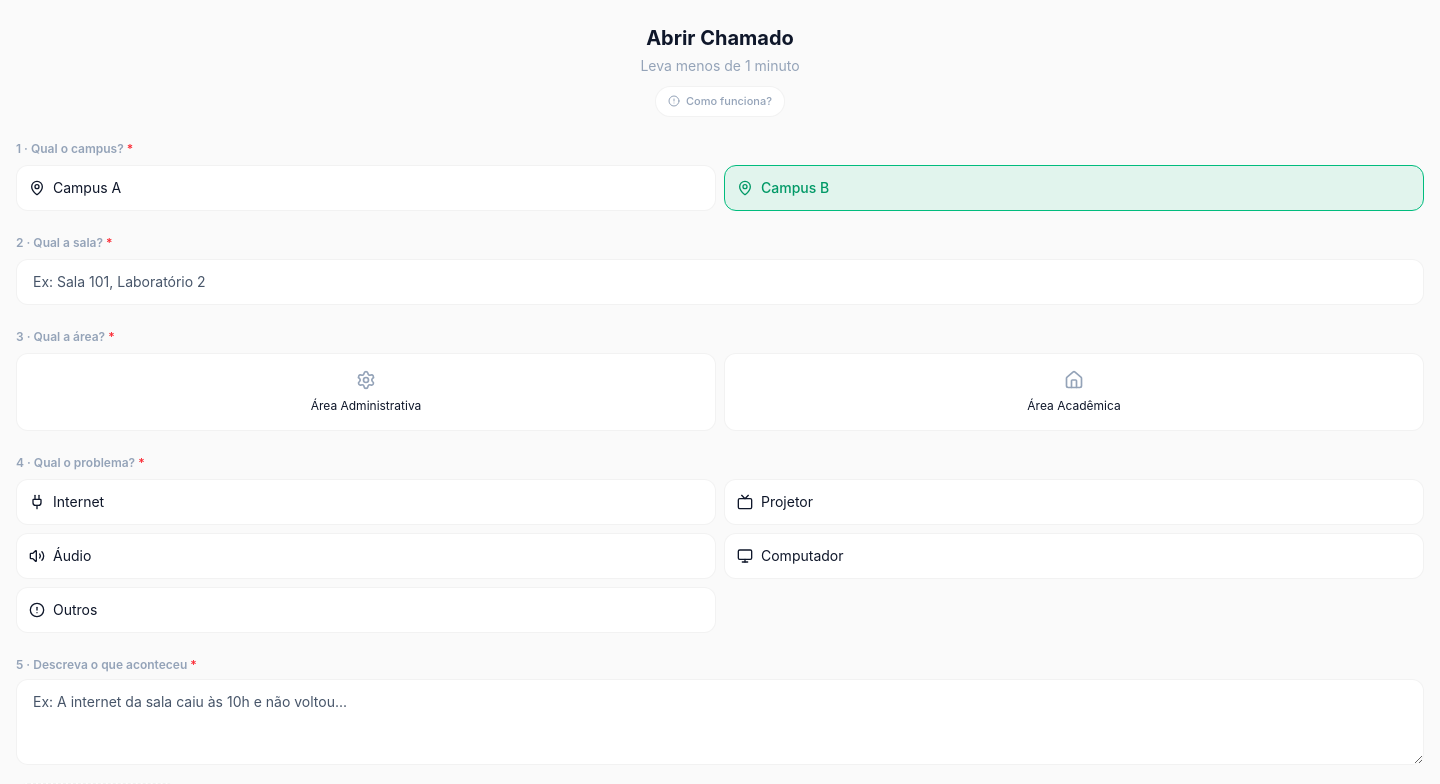
Test: RoomTicketForm › fecha a lista com Escape
The width and height of the screenshot is (1440, 784).
In the field labelled "2 · Qual a sala? *": [720, 282] box x1=16 y1=258 x2=1424 y2=304, type "Lab"
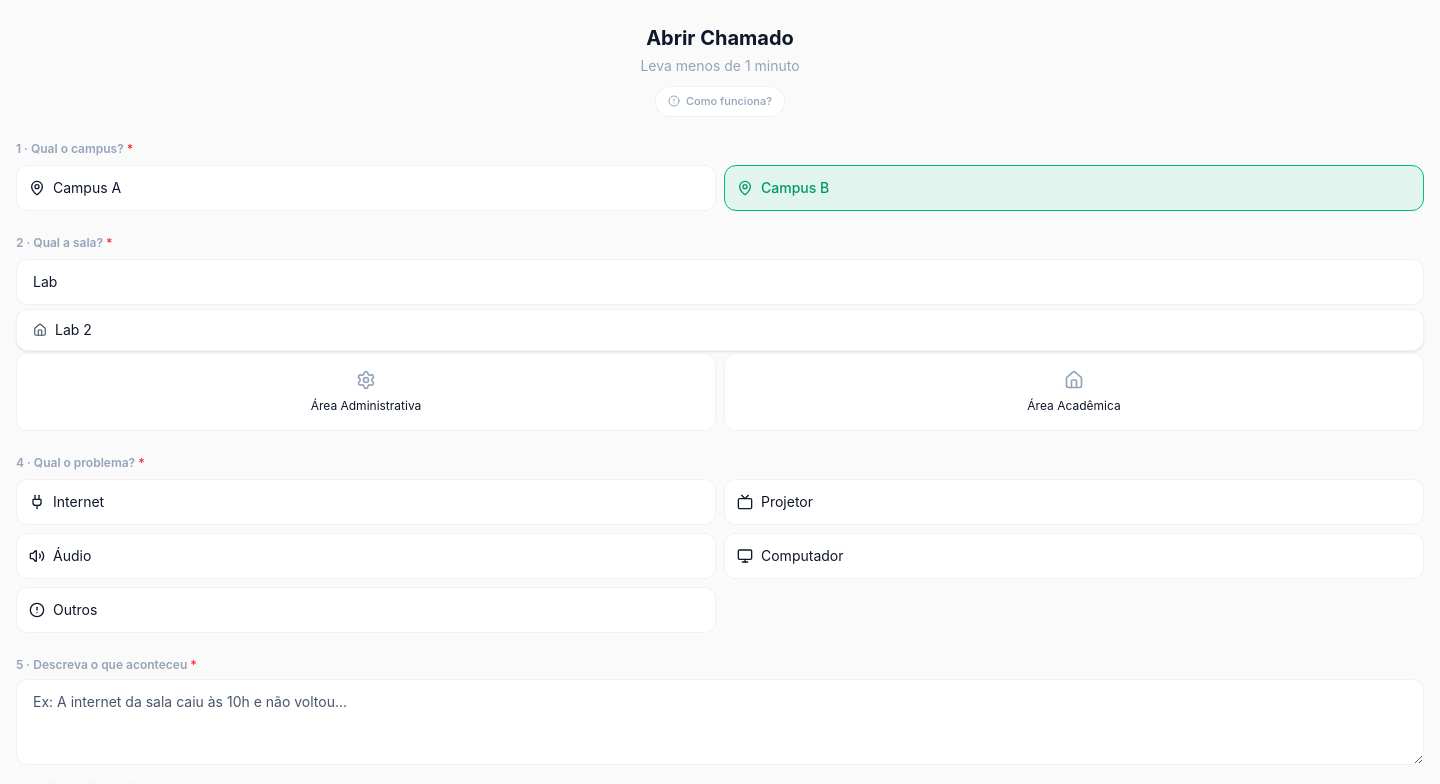
Press Escape in the field labelled "2 · Qual a sala? *", box x1=16 y1=258 x2=1424 y2=304
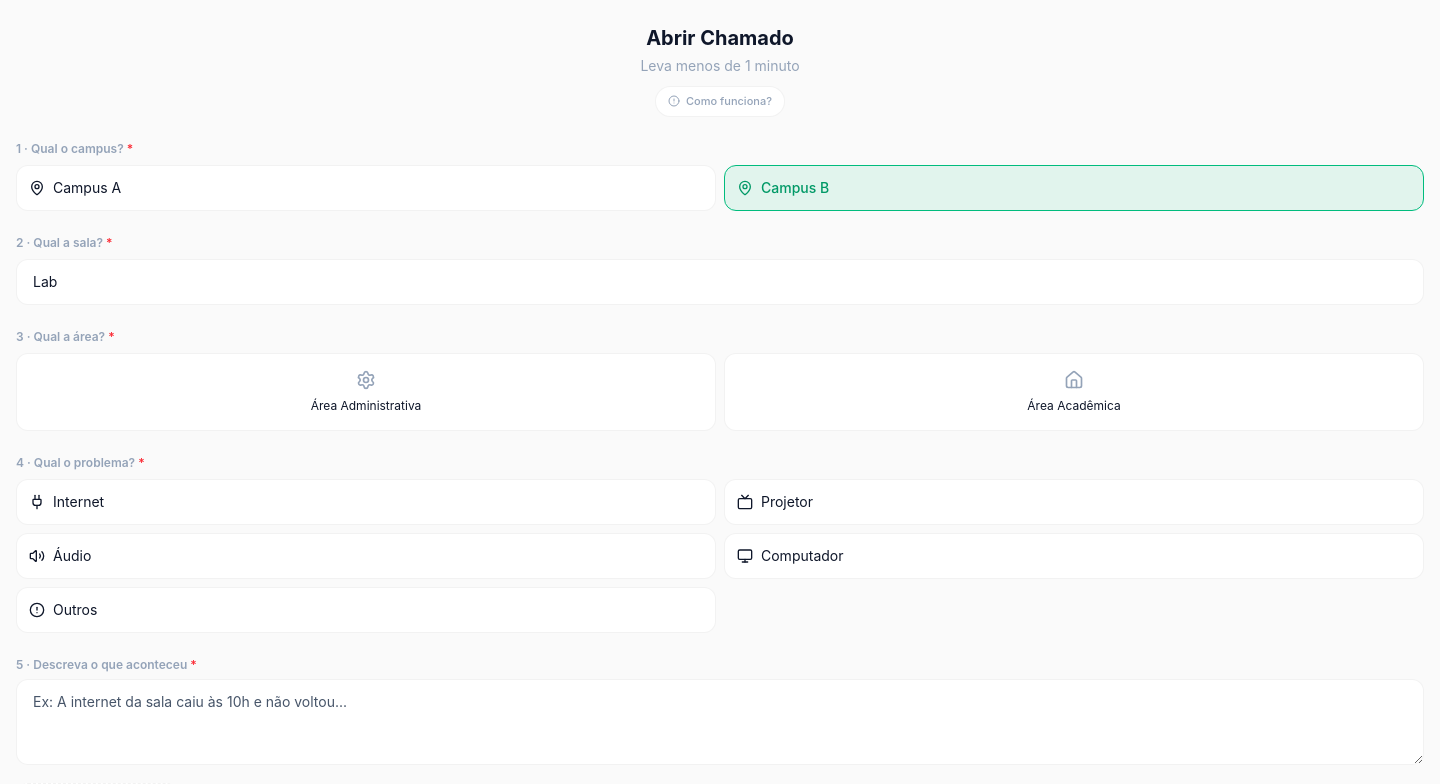
Check: the button "Lab 2" is gone
